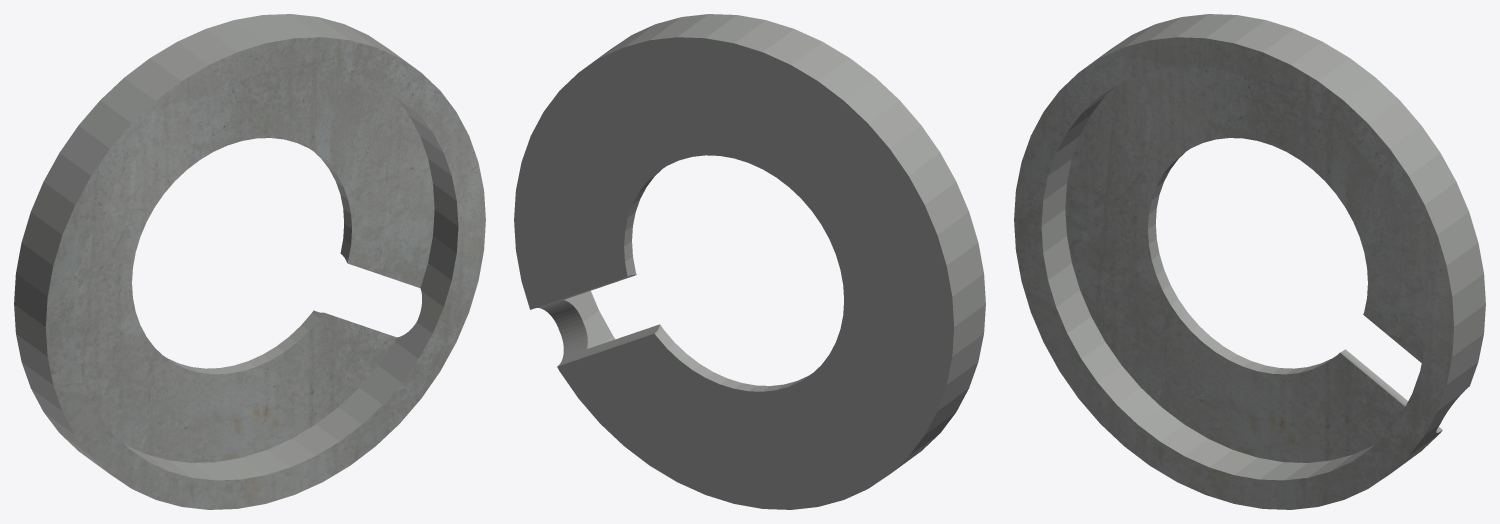
The model's file is pool_044.obj.
3 renders of one model, left to right at view 1: azimuth 30°, elevation 25°; view 2: azimuth 150°, elevation 25°; view 3: azimuth 330°, elevation 25°, orthographic.
Bounding box in the file's own units: 16 × 16 × 2.
